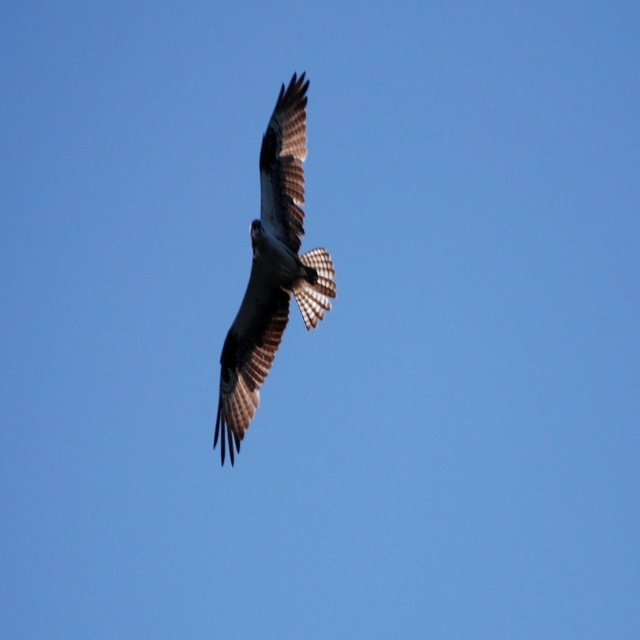Eagle: (213, 70, 337, 468)
